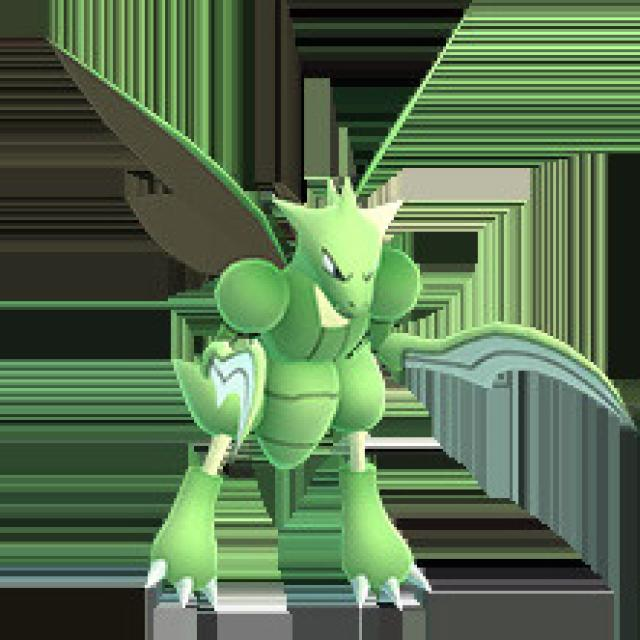Scyther: (34, 46, 627, 616)
